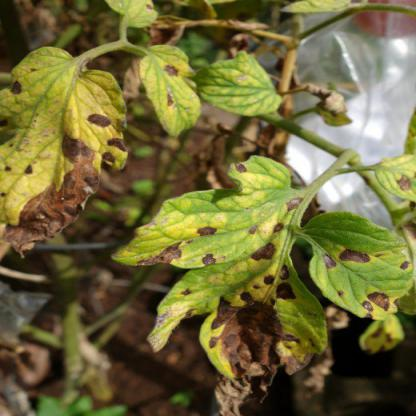Tomato leaf bacterial spot: (1, 32, 126, 268), (111, 158, 312, 270), (297, 210, 410, 321), (133, 44, 203, 134), (196, 51, 285, 115)
